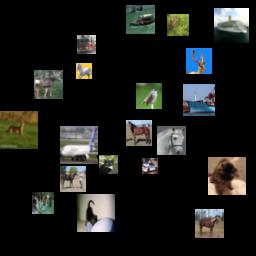airplane: (60, 126, 98, 164)
automobile: (142, 158, 158, 174)
bird: (136, 83, 162, 109)
cat: (208, 157, 246, 195), (99, 155, 118, 174)
deer: (0, 111, 38, 149), (34, 70, 63, 99), (186, 48, 212, 74), (167, 14, 189, 36)
dog: (77, 194, 115, 232), (32, 192, 54, 214)
ship: (214, 8, 249, 43), (183, 84, 215, 116), (126, 5, 155, 34)
truck: (77, 35, 96, 54)
